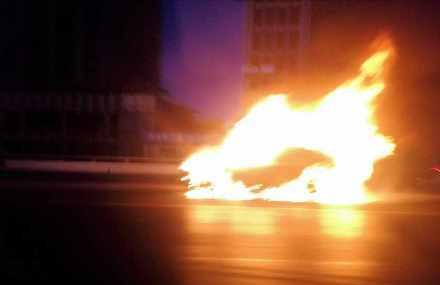fire: (160, 41, 394, 217)
